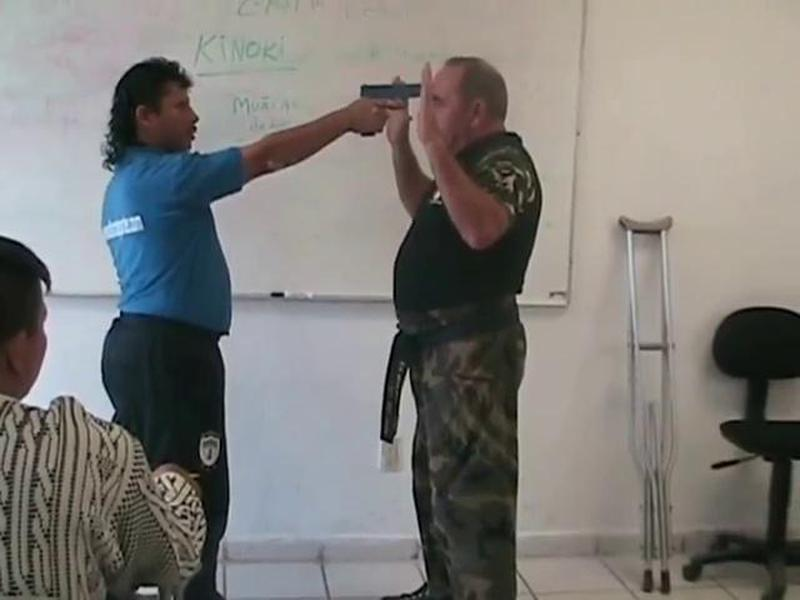Pistola: (343, 67, 438, 158)
